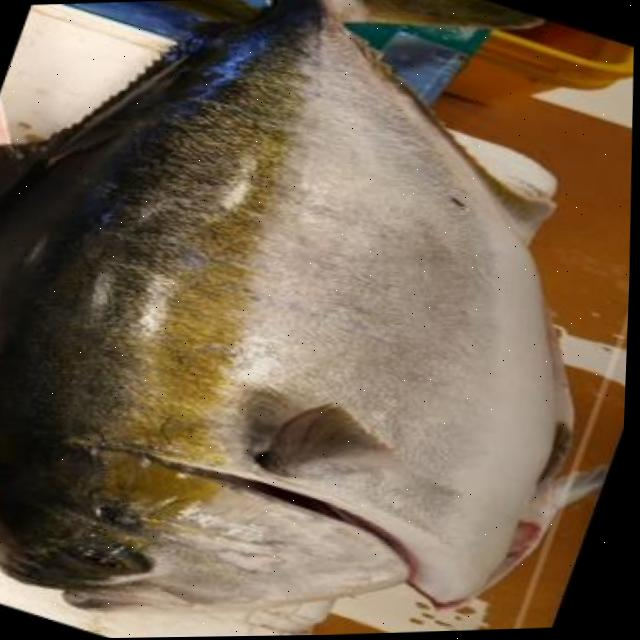Kingfish: (0, 0, 606, 633)
